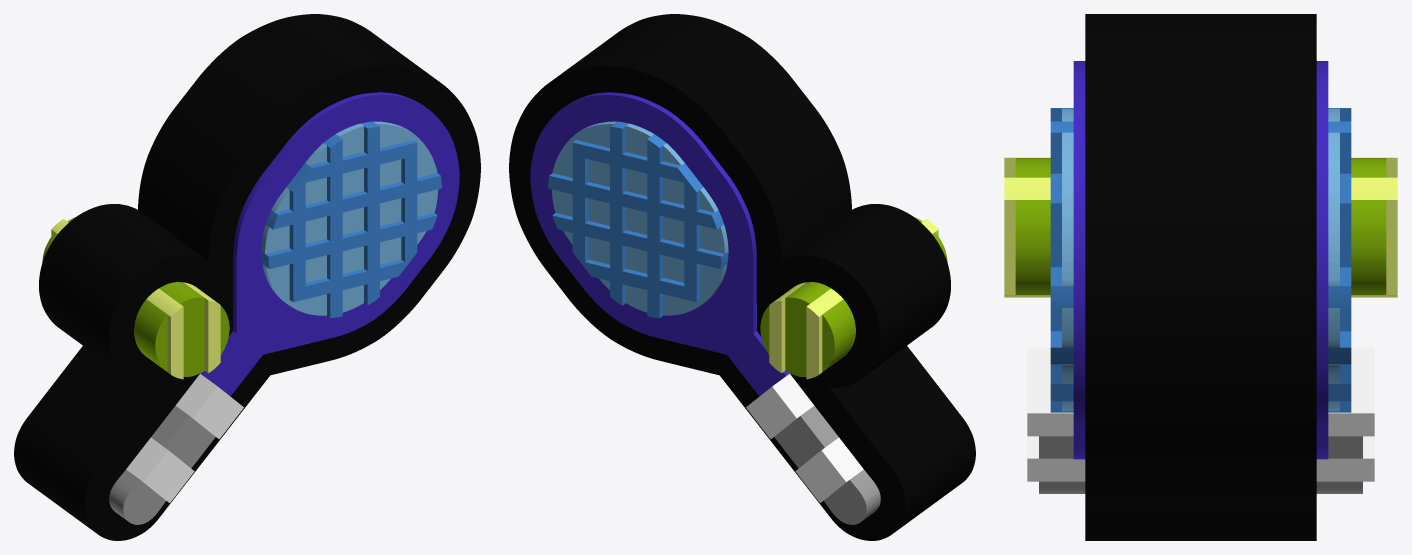
The picture shows the model from 3 angles, left to right: view 1: azimuth 30°, elevation 25°; view 2: azimuth 150°, elevation 25°; view 3: azimuth 270°, elevation 25°; orthographic projection. The views are drawn at different scales.
Parts seen in each view (by area): view 1: U+1F3BE_layer00_obj00, U+1F3BE_layer01_obj00, U+1F3BE_layer03_obj00, U+1F3BE_layer02_obj00, U+1F3BE_layer05_obj00, U+1F3BE_layer06_obj00, U+1F3BE_layer04_obj00, U+1F3BE_layer07_obj00; view 2: U+1F3BE_layer00_obj00, U+1F3BE_layer01_obj00, U+1F3BE_layer03_obj00, U+1F3BE_layer02_obj00, U+1F3BE_layer05_obj00, U+1F3BE_layer06_obj00, U+1F3BE_layer04_obj00, U+1F3BE_layer07_obj00; view 3: U+1F3BE_layer00_obj00, U+1F3BE_layer01_obj00, U+1F3BE_layer03_obj00, U+1F3BE_layer05_obj00, U+1F3BE_layer06_obj00, U+1F3BE_layer02_obj00, U+1F3BE_layer07_obj00, U+1F3BE_layer04_obj00.
Part boxes in pixels (x1,y1,x2,y2): U+1F3BE_layer00_obj00: [14, 14, 480, 540]; U+1F3BE_layer01_obj00: [200, 92, 459, 396]; U+1F3BE_layer03_obj00: [261, 121, 441, 318]; U+1F3BE_layer02_obj00: [261, 121, 438, 315]; U+1F3BE_layer05_obj00: [126, 373, 243, 502]; U+1F3BE_layer06_obj00: [42, 217, 229, 376]; U+1F3BE_layer04_obj00: [109, 405, 215, 524]; U+1F3BE_layer07_obj00: [51, 219, 220, 379]; U+1F3BE_layer00_obj00: [509, 14, 975, 540]; U+1F3BE_layer01_obj00: [530, 92, 789, 396]; U+1F3BE_layer03_obj00: [548, 121, 728, 318]; U+1F3BE_layer02_obj00: [551, 121, 728, 315]; U+1F3BE_layer05_obj00: [746, 373, 863, 502]; U+1F3BE_layer06_obj00: [760, 217, 947, 376]; U+1F3BE_layer04_obj00: [774, 405, 880, 524]; U+1F3BE_layer07_obj00: [769, 219, 938, 379]; U+1F3BE_layer00_obj00: [1085, 14, 1316, 540]; U+1F3BE_layer01_obj00: [1073, 61, 1328, 459]; U+1F3BE_layer03_obj00: [1050, 108, 1351, 412]; U+1F3BE_layer05_obj00: [1027, 347, 1374, 481]; U+1F3BE_layer06_obj00: [1015, 158, 1386, 294]; U+1F3BE_layer02_obj00: [1062, 108, 1339, 411]; U+1F3BE_layer07_obj00: [1004, 157, 1397, 297]; U+1F3BE_layer04_obj00: [1039, 436, 1362, 493].
Size of the model in its own units: 0.6491 by 0.649 by 0.34.
